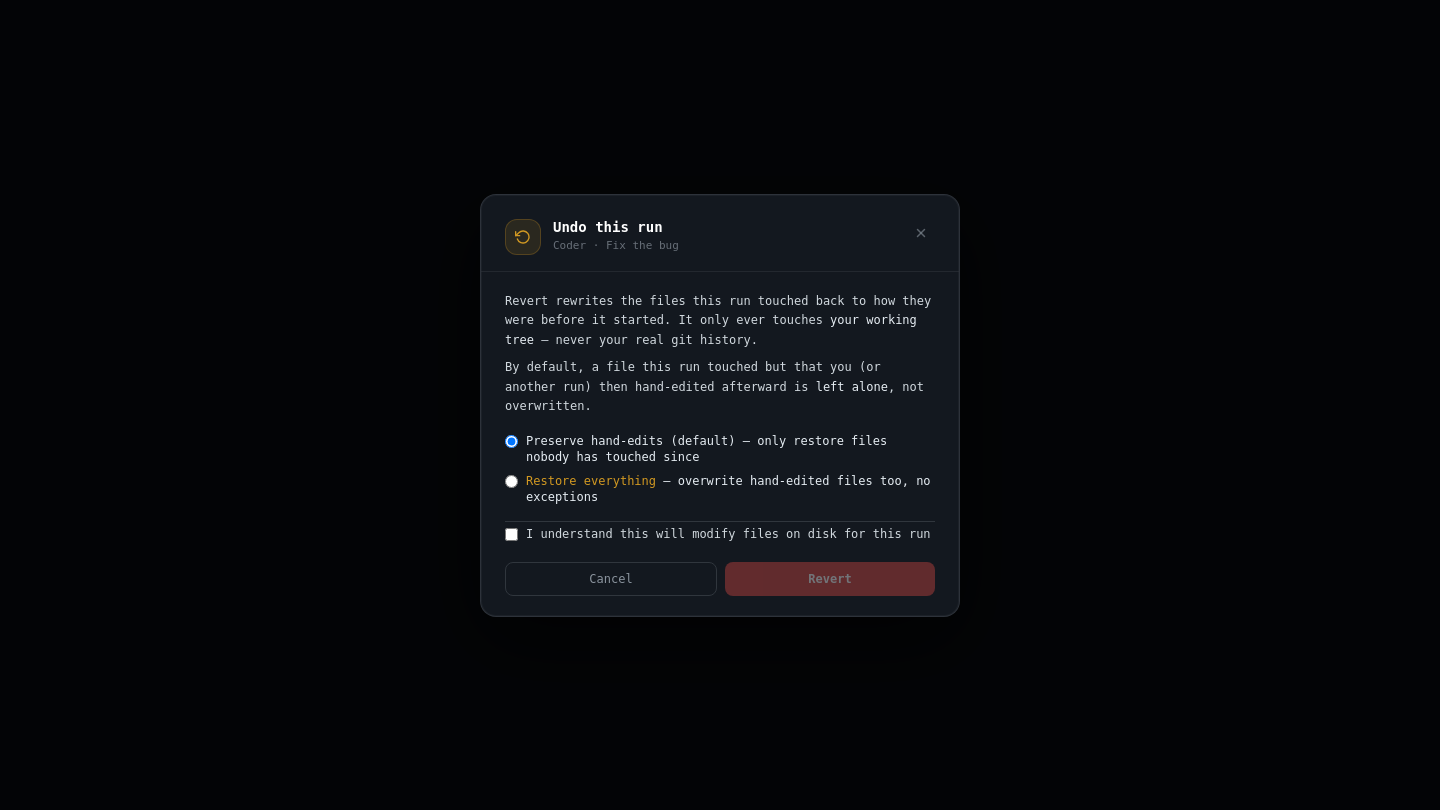
Test: CheckpointRevertDialog › surfaces a revert error inline instead of throwing silently
The width and height of the screenshot is (1440, 810).
What coordinates should you click on to do the following:
click the checkbox with test id "checkpoint-revert-confirm"
I would click on:
 (512, 534)
Its box is [505,528,518,540].
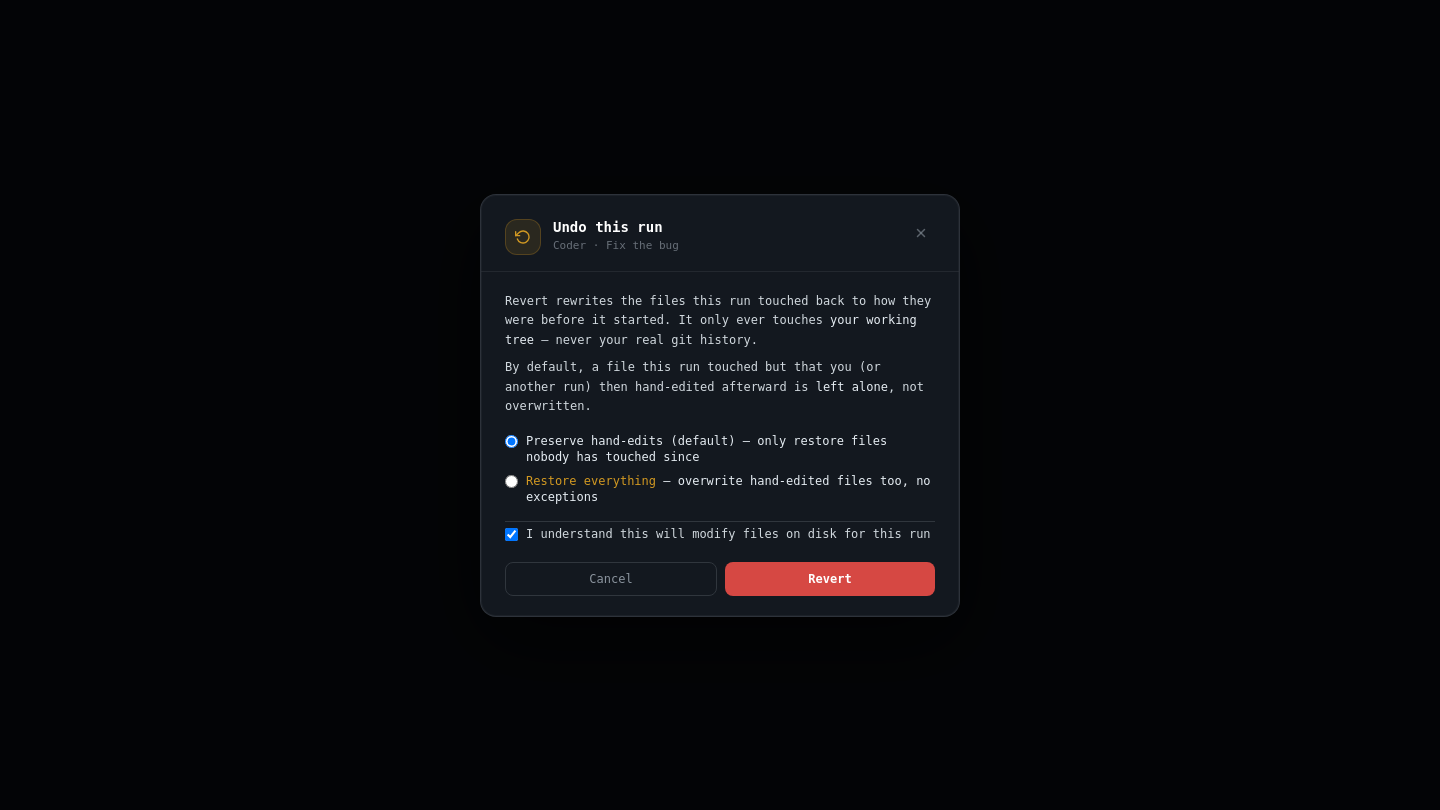
What coordinates should you click on to do the following:
click the button with test id "checkpoint-revert-confirm-btn"
I would click on:
 (830, 578)
Its box is [725,562,935,596].
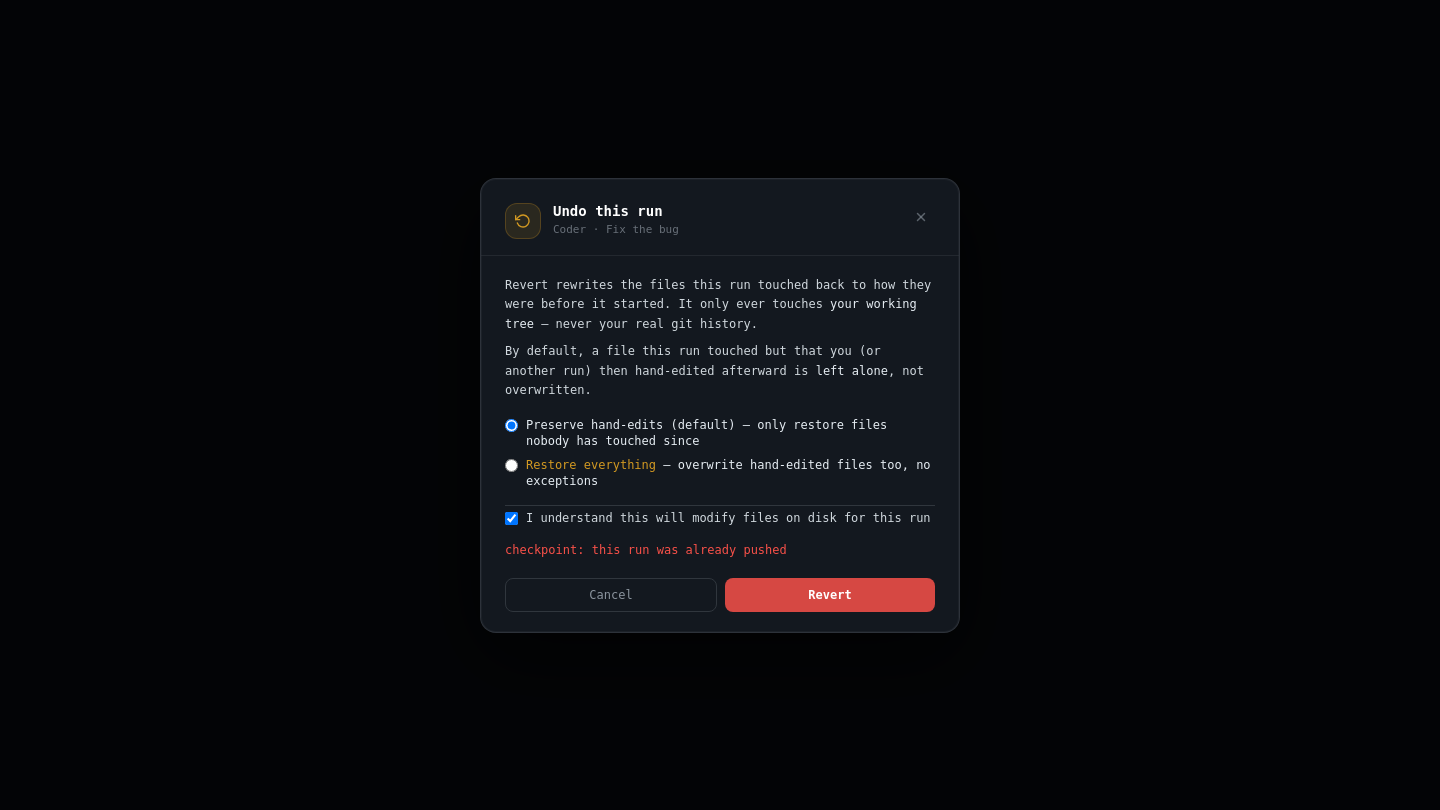
Expected: the text "already pushed" is shown, [505,542,787,556]
